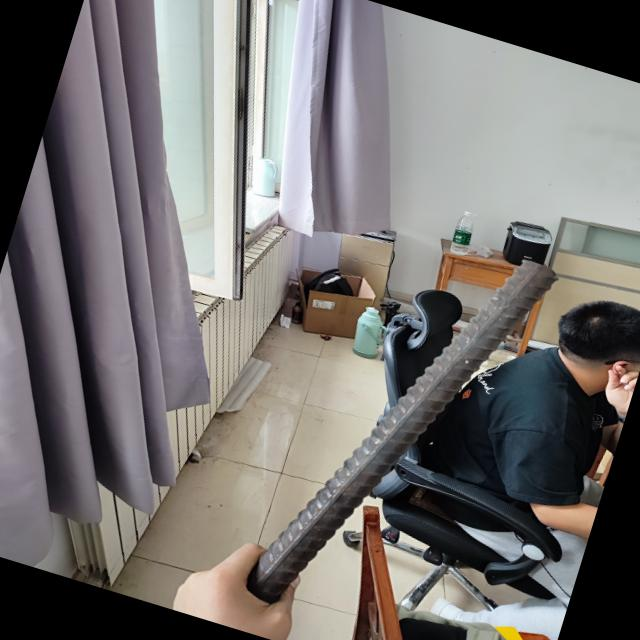ribbed bar: (228, 197, 565, 640)
